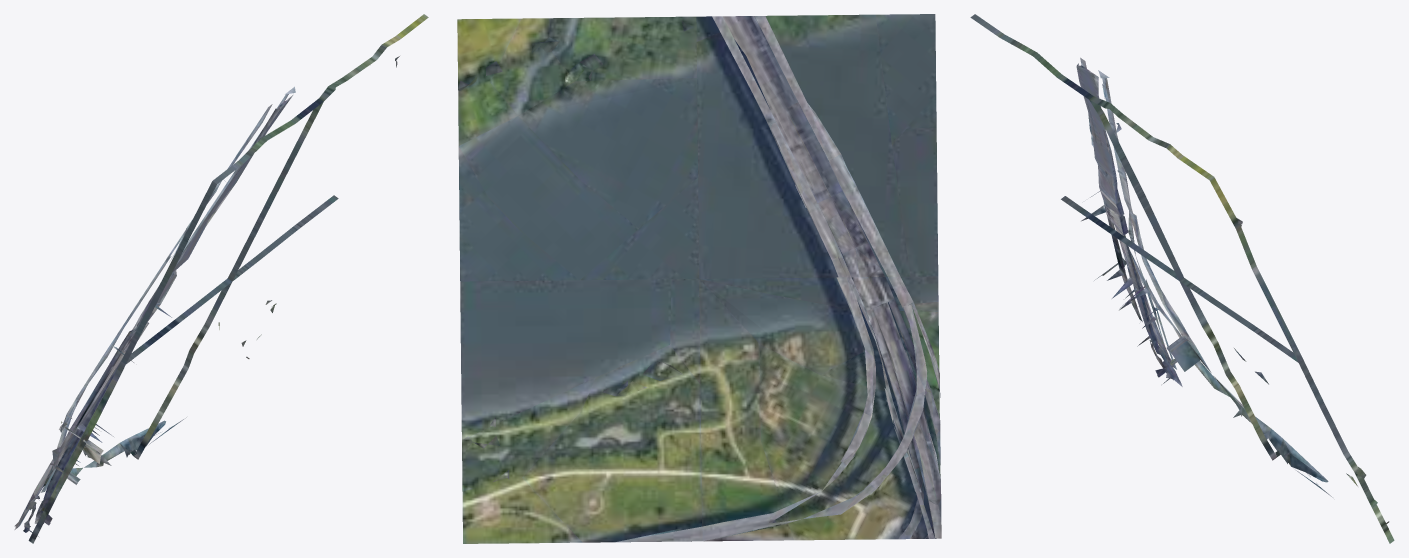
3 renders of one model, left to right at view 1: azimuth 30°, elevation 25°; view 2: azimuth 150°, elevation 25°; view 3: azimuth 270°, elevation 25°, orthographic. The views are drawn at different scales.
Bounding box in the file's own units: 622 × 570 × 517.
Materials: 1 (1 with a texture image).
